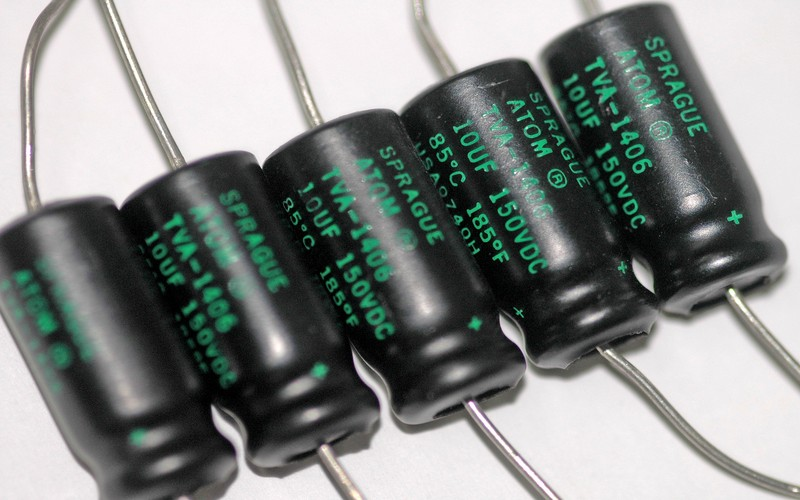Capacitor: (113, 17, 736, 476)
